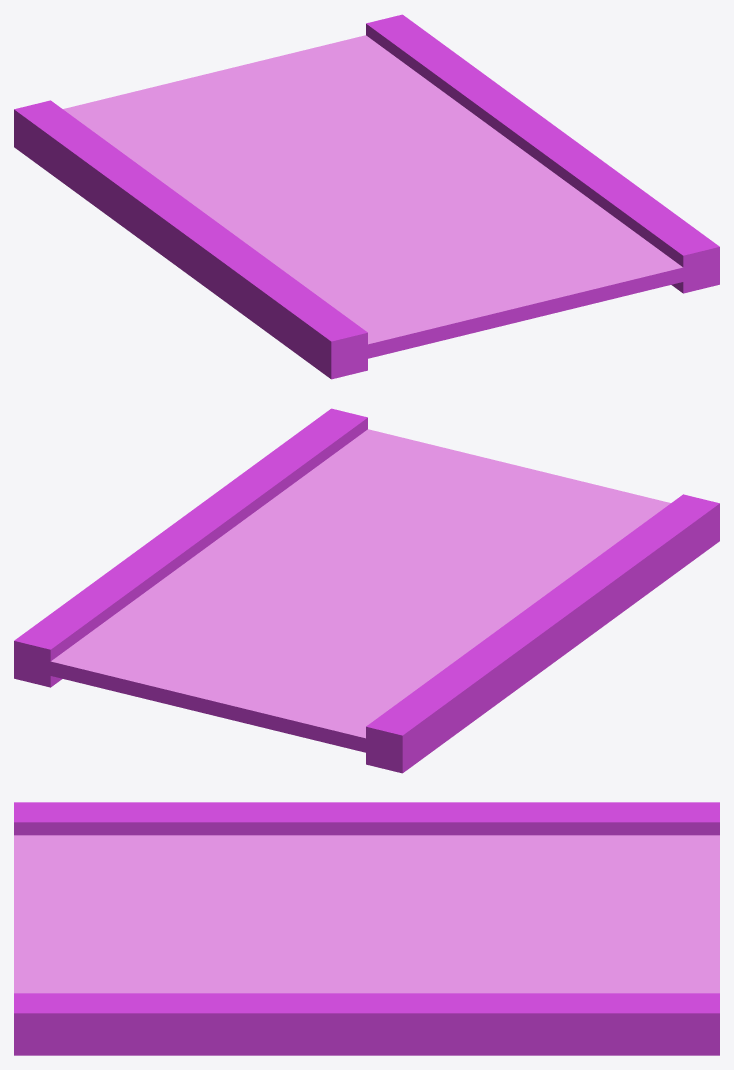
Rendered from Ground1.fbx.
The picture shows the model from 3 angles, top to bottom: view 1: azimuth 30°, elevation 25°; view 2: azimuth 150°, elevation 25°; view 3: azimuth 270°, elevation 25°; orthographic projection. The views are drawn at different scales.
Parts seen in each view (by area): view 1: Cube.004; view 2: Cube.004; view 3: Cube.004.
Boxes of the visible parts, x1=… form: Cube.004: x1=14, y1=14, x2=719, y2=379; Cube.004: x1=14, y1=408, x2=719, y2=773; Cube.004: x1=14, y1=802, x2=719, y2=1055.
Size of the model in its own units: 6.28 by 8.88 by 0.5843.
